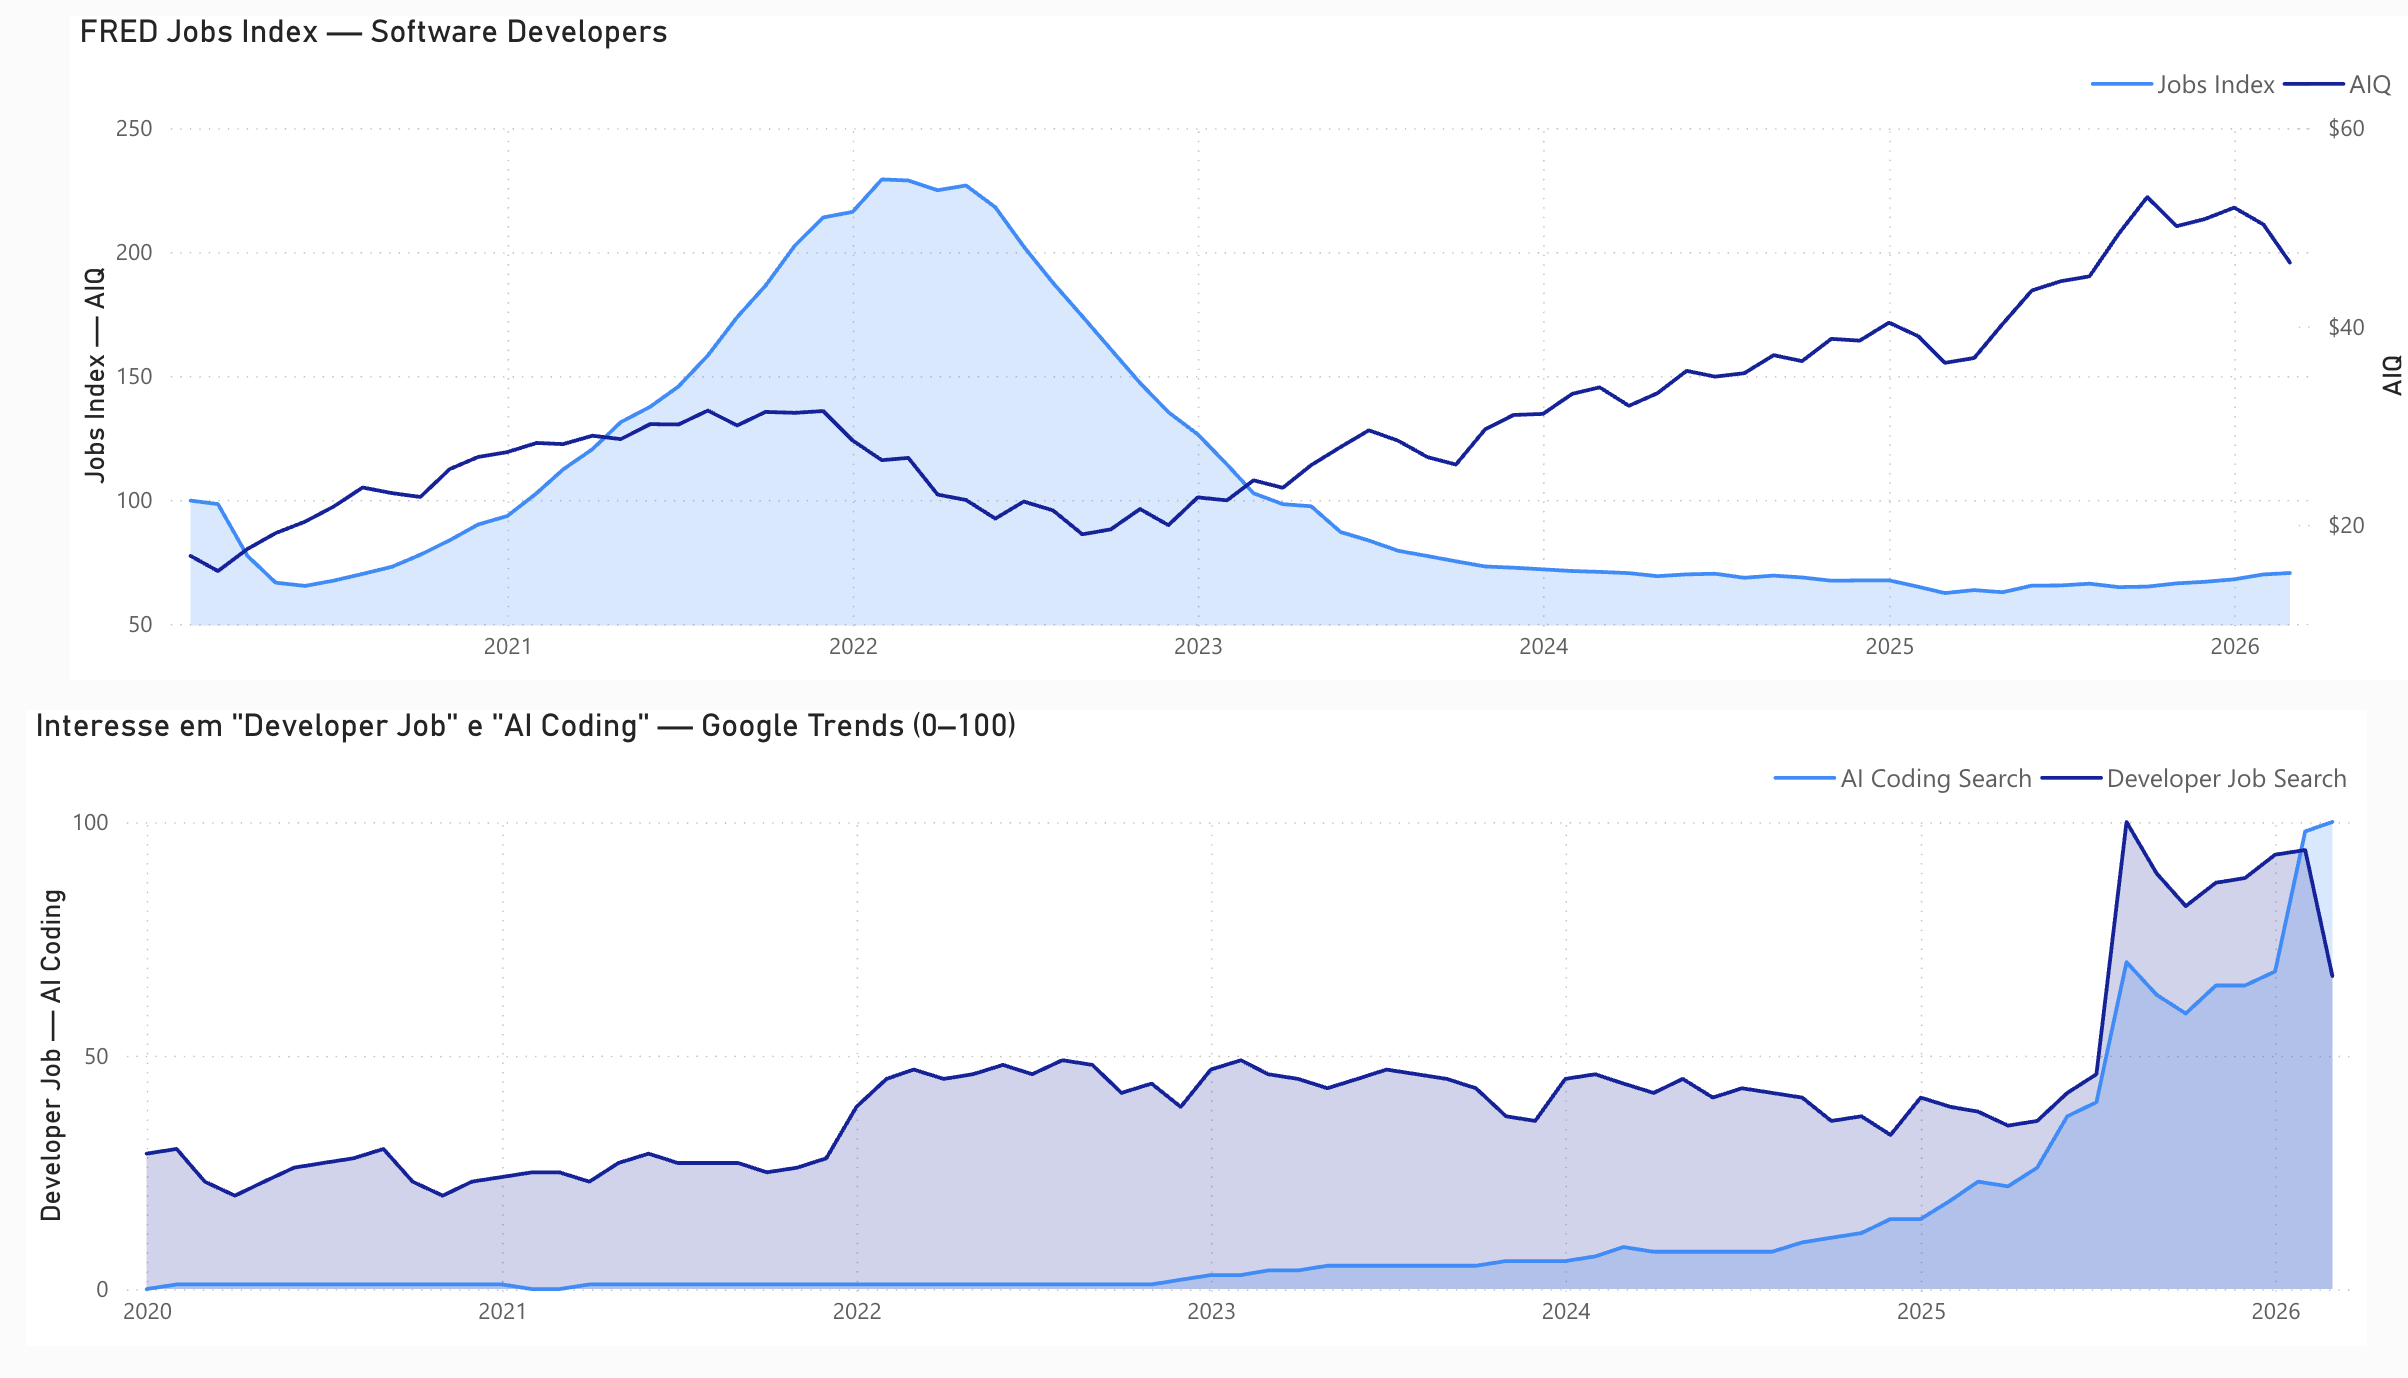

The page's visual inventory and layout, read from the dashboard file:
{"tool":"powerbi","page":{"name":"Tendências & Correlação","canvas":[1280,720],"ordinal":2},"visuals":[{"type":"lineChart","title":"FRED Jobs Index — Software Developers","fields":{"Y":["Sum(fred_clean.jobs_index)"],"Category":["fred_clean.date"],"Y2":["Sum(aiq_clean.aiq_close)"]},"box":[47.5,10.4,1232.9,349.9],"z":0},{"type":"areaChart","title":"Interesse em \"Developer Job\" e \"AI Coding\" — Google Trends (0–100)","fields":{"Y":["Sum(trend_ai_coding.ai_coding_trend)","Sum(trend_developer_demand.developer_demand_trend)"],"Category":["trend_developer_demand.date.Variation.Date Hierarchy.Year","trend_developer_demand.date.Variation.Date Hierarchy.Month"]},"box":[24.3,376.6,1232.9,334.9],"z":1000}]}

Visuals, with their boxes in screenshot pixels (x1, y1, x2, y2), scaled from the page's 1280x720 canvas onto the 2408x1378 screenshot:
"FRED Jobs Index — Software Developers" lineChart: bbox=[89, 20, 2407, 690]
"Interesse em "Developer Job" e "AI Coding" — Google Trends (0–100)" areaChart: bbox=[46, 721, 2365, 1362]
